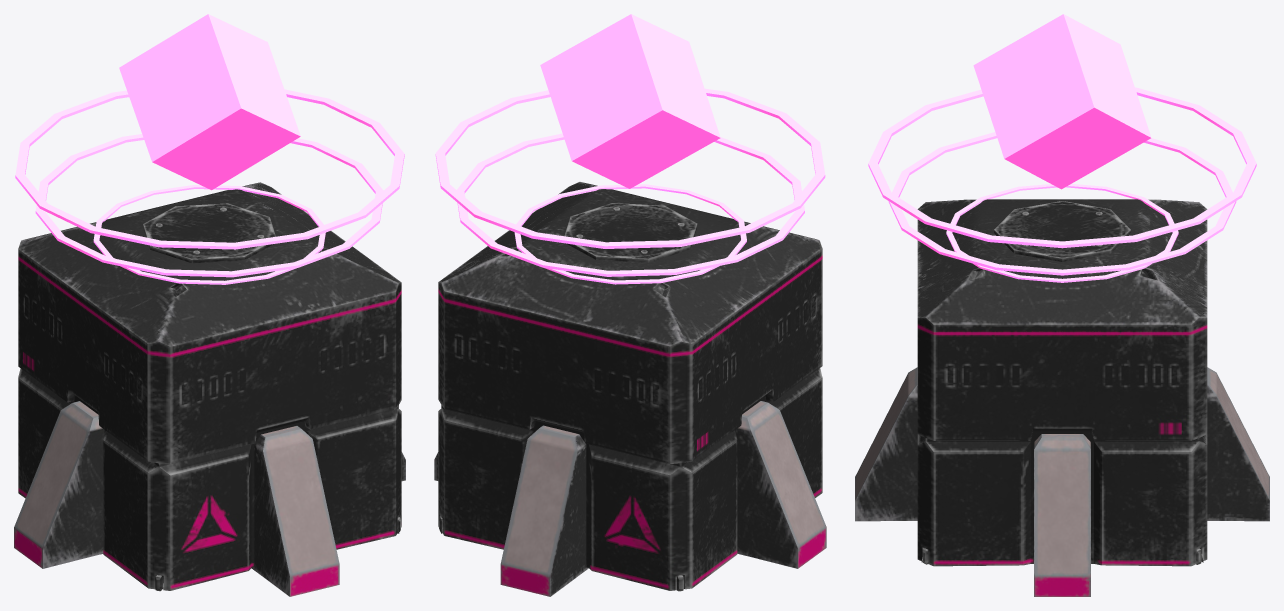
File: loot_box.glb
The picture shows the model from 3 angles, left to right: view 1: azimuth 30°, elevation 25°; view 2: azimuth 150°, elevation 25°; view 3: azimuth 270°, elevation 25°; orthographic projection.
Visible parts, largest first — view 1: loot_low; view 2: loot_low; view 3: loot_low.
Part boxes in pixels (x1=…): loot_low: x1=14, y1=14, x2=405, y2=596; loot_low: x1=434, y1=14, x2=826, y2=596; loot_low: x1=855, y1=14, x2=1269, y2=596.
Bounding box in the file's own units: 1.52 × 2 × 1.52.
Materials: 1 (1 with a texture image).
